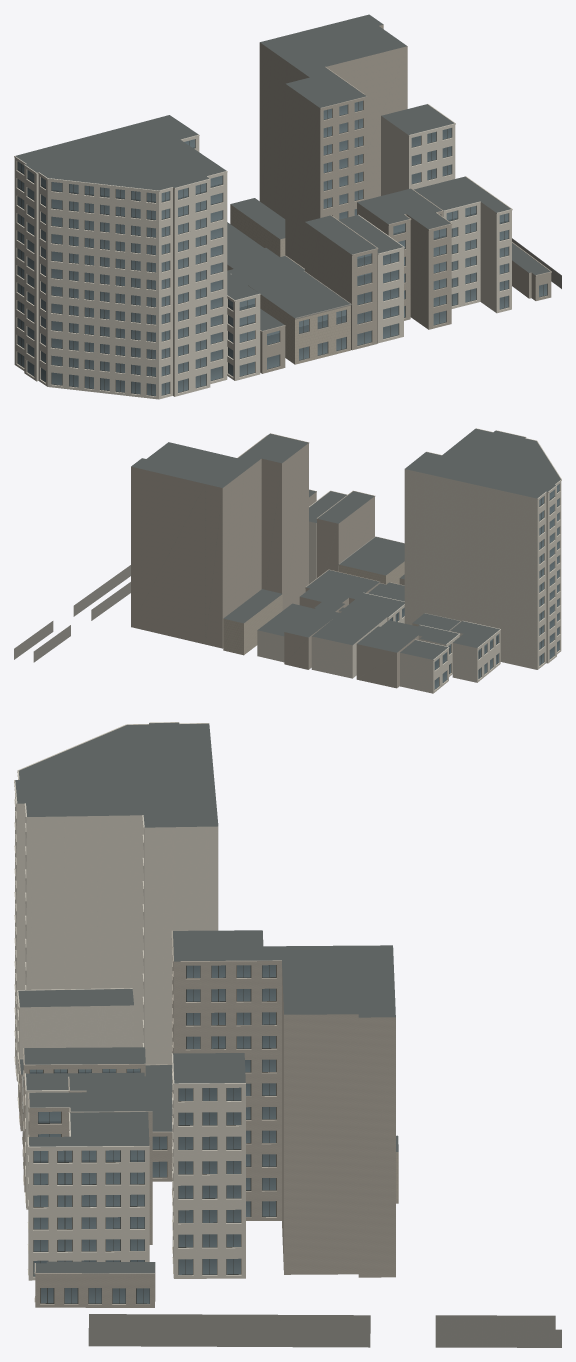
File: near.gltf
3 renders of one model, top to bottom at view 1: azimuth 30°, elevation 25°; view 2: azimuth 150°, elevation 25°; view 3: azimuth 270°, elevation 25°, orthographic. The views are drawn at different scales.
Parts seen in each view (by area): view 1: cell-e009-n000_near_plaster, cell-e009-n000_near_roof, cell-e009-n000_near_tile-wall, cell-e009-n000_near_glass, cell-e009-n000_near_frame, cell-e009-n000_near_stone, cell-e009-n000_near_granite; view 2: cell-e009-n000_near_tile-wall, cell-e009-n000_near_plaster, cell-e009-n000_near_roof, cell-e009-n000_near_granite, cell-e009-n000_near_stone, cell-e009-n000_near_glass, cell-e009-n000_near_frame; view 3: cell-e009-n000_near_plaster, cell-e009-n000_near_tile-wall, cell-e009-n000_near_roof, cell-e009-n000_near_glass, cell-e009-n000_near_granite, cell-e009-n000_near_frame.
Boxes of the visible parts, x1=… form: cell-e009-n000_near_plaster: x1=14, y1=104, x2=512, y2=399; cell-e009-n000_near_roof: x1=15, y1=14, x2=549, y2=330; cell-e009-n000_near_tile-wall: x1=227, y1=24, x2=551, y2=373; cell-e009-n000_near_glass: x1=17, y1=101, x2=547, y2=395; cell-e009-n000_near_frame: x1=17, y1=101, x2=547, y2=396; cell-e009-n000_near_stone: x1=230, y1=204, x2=350, y2=364; cell-e009-n000_near_granite: x1=295, y1=238, x2=561, y2=361; cell-e009-n000_near_tile-wall: x1=131, y1=433, x2=418, y2=688; cell-e009-n000_near_plaster: x1=257, y1=428, x2=561, y2=693; cell-e009-n000_near_roof: x1=131, y1=428, x2=560, y2=659; cell-e009-n000_near_granite: x1=14, y1=536, x2=461, y2=662; cell-e009-n000_near_stone: x1=223, y1=561, x2=418, y2=655; cell-e009-n000_near_glass: x1=389, y1=484, x2=559, y2=689; cell-e009-n000_near_frame: x1=392, y1=491, x2=559, y2=688; cell-e009-n000_near_plaster: x1=14, y1=722, x2=245, y2=1280; cell-e009-n000_near_tile-wall: x1=18, y1=930, x2=395, y2=1307; cell-e009-n000_near_roof: x1=15, y1=722, x2=398, y2=1273; cell-e009-n000_near_glass: x1=30, y1=965, x2=275, y2=1303; cell-e009-n000_near_granite: x1=21, y1=1076, x2=561, y2=1347; cell-e009-n000_near_frame: x1=29, y1=965, x2=276, y2=1304.
Size of the model in its own units: 94.65 by 39.76 by 66.57.
7 materials, 5 textured.
